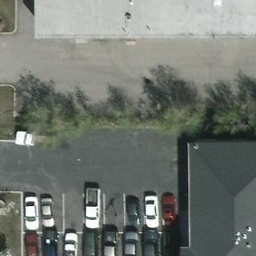car: (41, 193, 58, 230), (84, 190, 101, 227), (124, 193, 141, 230), (143, 190, 160, 227), (157, 187, 174, 224), (23, 194, 40, 230), (42, 231, 57, 256), (24, 231, 39, 256), (64, 231, 79, 256), (83, 231, 98, 256), (103, 231, 118, 256), (123, 231, 138, 256), (142, 231, 157, 256)
